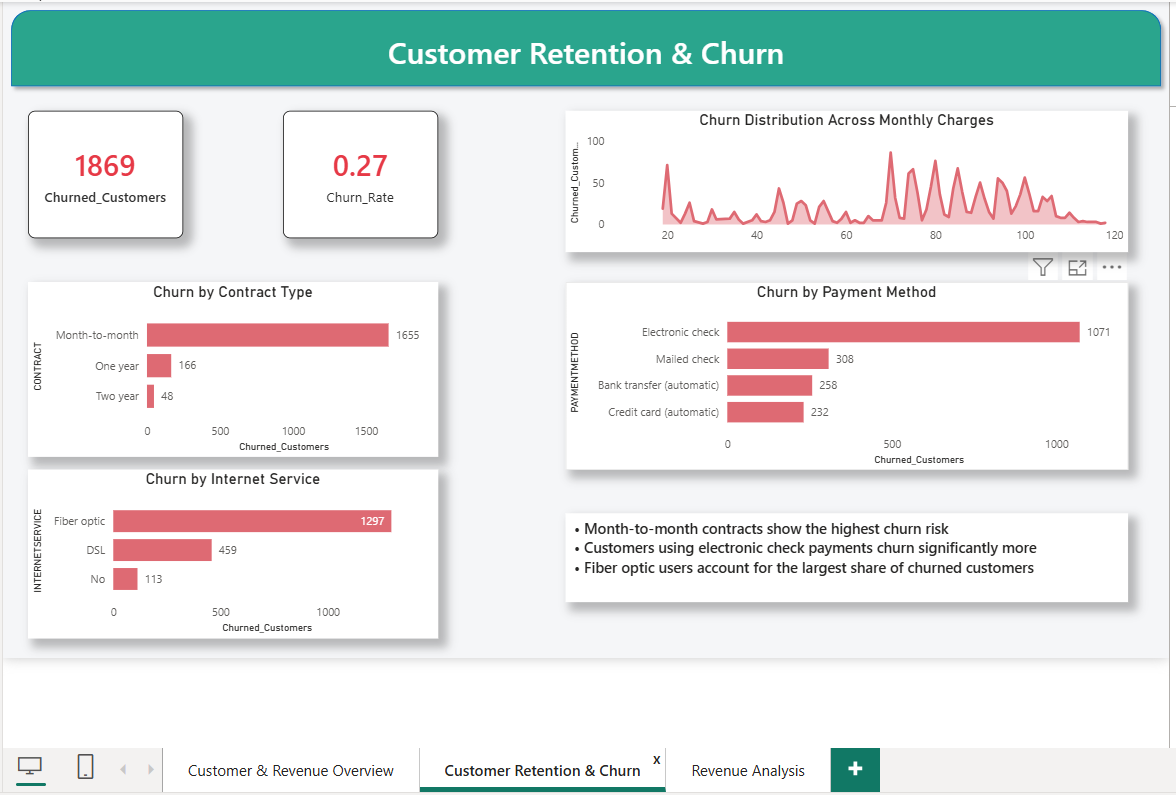

The page's visual inventory and layout, read from the dashboard file:
{"tool":"powerbi","page":{"name":"Customer Retention & Churn","canvas":[1280,720],"ordinal":1},"visuals":[{"type":"clusteredBarChart","title":"Churn by Contract Type","fields":{"Y":["DIM_CONTRACT.Churned_Customers"],"Category":["DIM_CONTRACT.CONTRACT"]},"box":[27.4,307.4,450.1,192.1],"z":0},{"type":"shape","box":[0,0,1280.3,101.5],"z":1000},{"type":"card","fields":{"Values":["DIM_CONTRACT.Churned_Customers"]},"box":[27.4,119.4,170.2,140],"z":2000},{"type":"card","fields":{"Values":["DIM_CONTRACT.Churn_Rate"]},"box":[307.4,119.4,170.2,140],"z":3000},{"type":"clusteredBarChart","title":"Churn by Payment Method","fields":{"Y":["DIM_CONTRACT.Churned_Customers"],"Category":["DIM_CONTRACT.PAYMENTMETHOD"]},"box":[617.5,307.4,617.5,205.8],"z":4000},{"type":"lineChart","title":"Churn Distribution Across Monthly Charges","fields":{"Category":["FACT_SUBSCRIPTION.MONTHLYCHARGES"],"Y":["DIM_CONTRACT.Churned_Customers"]},"box":[617.5,119.4,617.5,155.1],"z":5000},{"type":"clusteredBarChart","title":"Churn by Internet Service","fields":{"Y":["DIM_CONTRACT.Churned_Customers"],"Category":["DIM_SERVICES.INTERNETSERVICE"]},"box":[27.4,513.2,450.1,185.2],"z":6000},{"type":"textbox","box":[617.5,561.2,617.5,97.4],"z":7000}]}

Visuals, with their boxes on the page's 1280x720 design canvas (x1, y1, x2, y2). These are canvas units, not pixel positions in the 1176x795 screenshot, which may show the page scaled, cropped or inside an application window:
"Churn by Contract Type" clusteredBarChart: 27/307/478/500
shape: 0/0/1280/102
card - DIM_CONTRACT.Churned_Customers: 27/119/198/259
card - DIM_CONTRACT.Churn_Rate: 307/119/478/259
"Churn by Payment Method" clusteredBarChart: 618/307/1235/513
"Churn Distribution Across Monthly Charges" lineChart: 618/119/1235/274
"Churn by Internet Service" clusteredBarChart: 27/513/478/698
textbox: 618/561/1235/659
